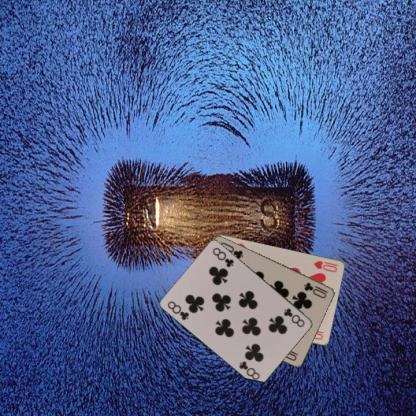10c: (302, 280, 329, 299)
10h: (312, 258, 339, 273)
8c: (165, 298, 191, 322), (282, 305, 306, 328)
